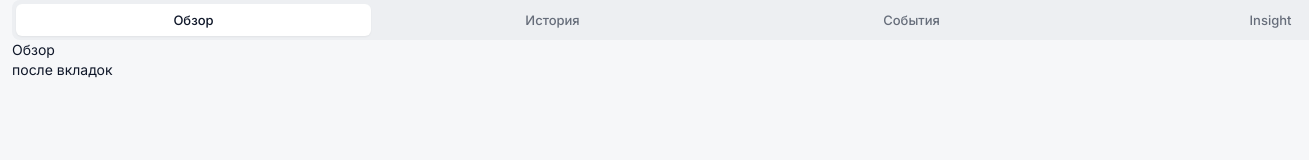
it: Tabs › ArrowRight с вкладки «Обзор» открывает «История» и переносит на неё фокус
Click the button "Обзор" at (194, 20), box 16,4 -> 371,36
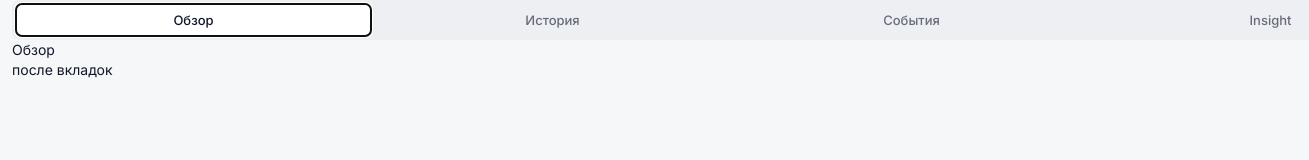
Press Arrowright
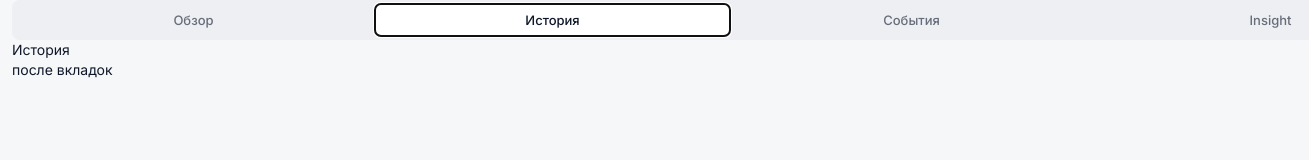
Now the text with test id "current" reads "История", box 12,41 -> 70,58
